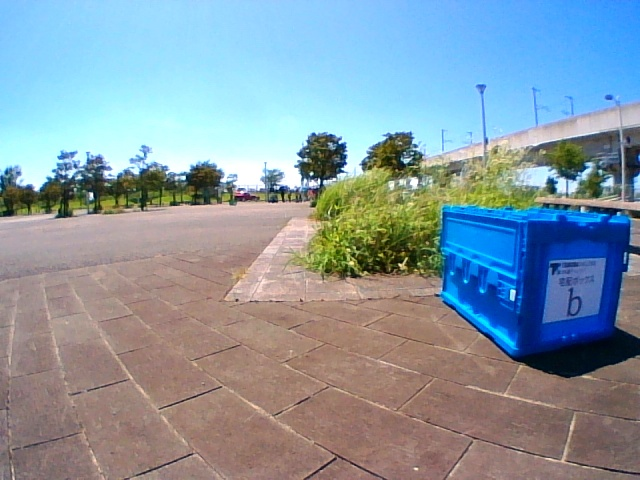blue_box: (465, 215, 614, 322)
tag_b: (559, 278, 590, 318)
